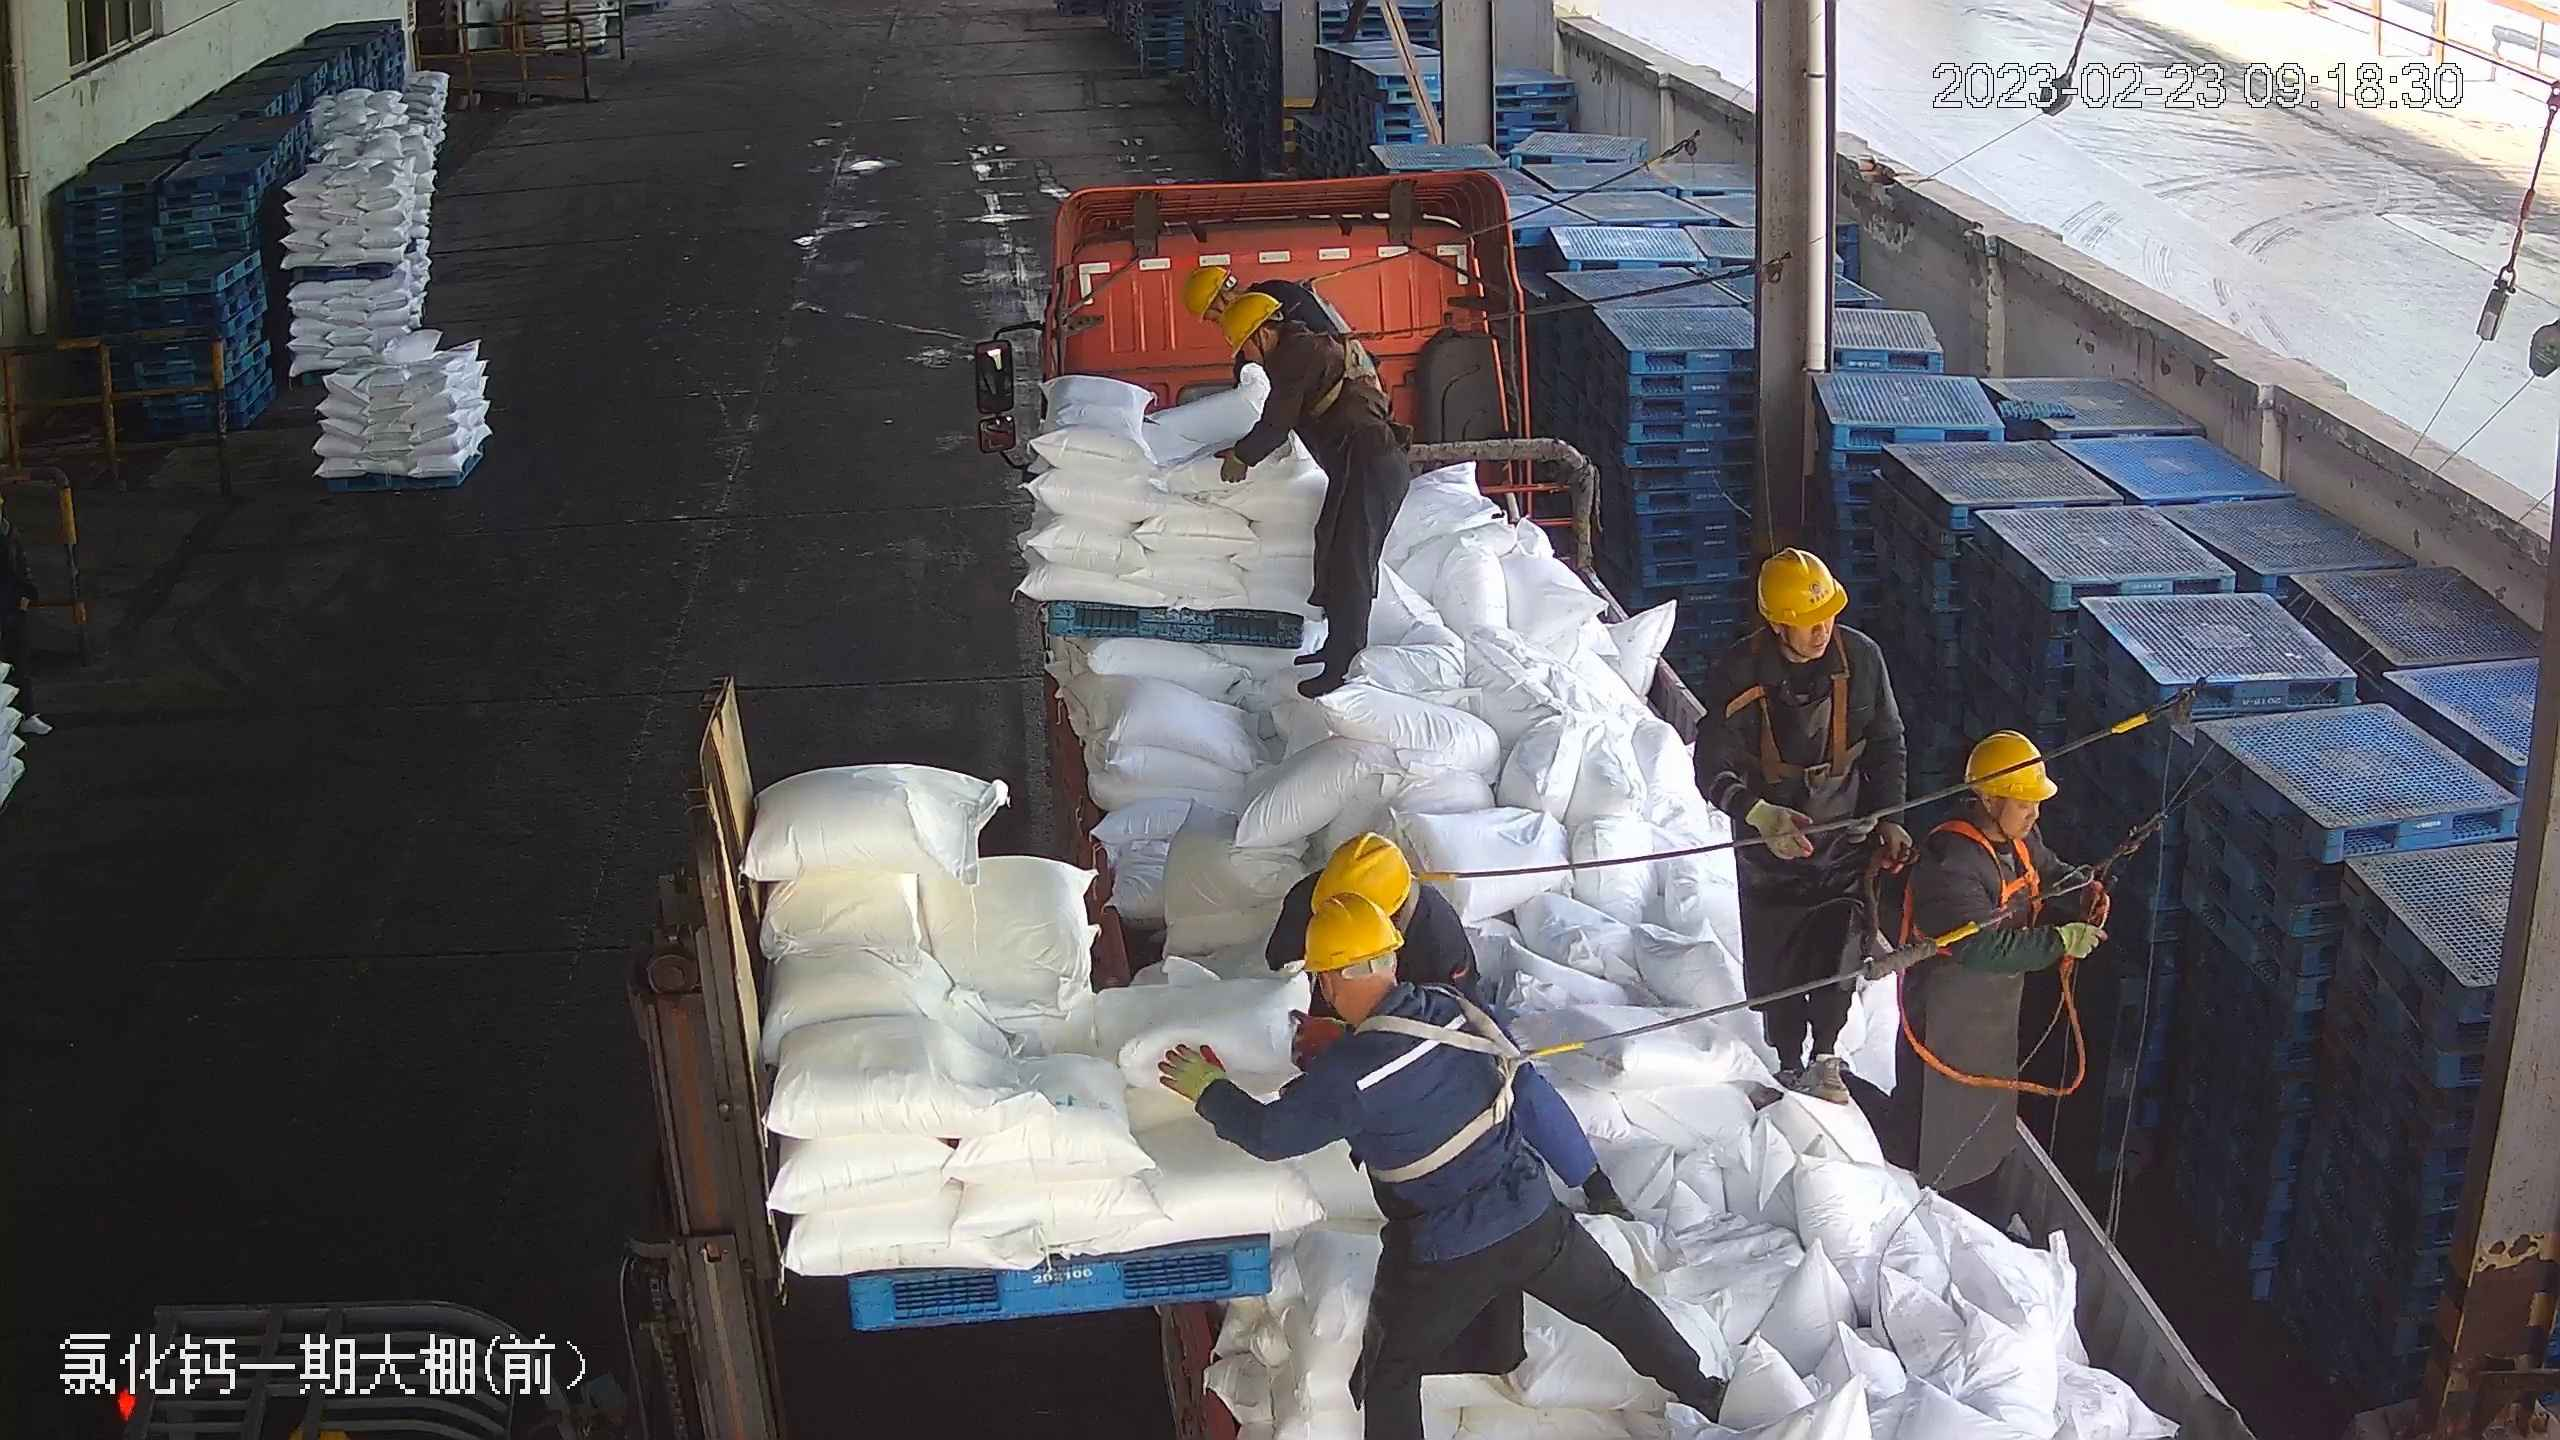belt: (1378, 1009, 1593, 1181), (1749, 654, 1871, 782), (1938, 831, 2053, 951), (1282, 326, 1392, 418), (1388, 851, 1454, 928), (1278, 258, 1346, 314)
head: (1291, 897, 1493, 1098), (1717, 544, 1886, 707), (1925, 729, 2063, 887), (1214, 289, 1342, 395)
helmet: (1930, 728, 2062, 884), (1315, 832, 1415, 919), (1294, 896, 1405, 973), (1752, 545, 1847, 625), (1959, 727, 2059, 799), (1212, 280, 1280, 351), (1173, 259, 1234, 322)
people: (1162, 895, 1729, 1440), (1883, 725, 2119, 1230), (1698, 546, 1903, 1121), (1209, 288, 1408, 703)
truck: (977, 174, 2257, 1430)
